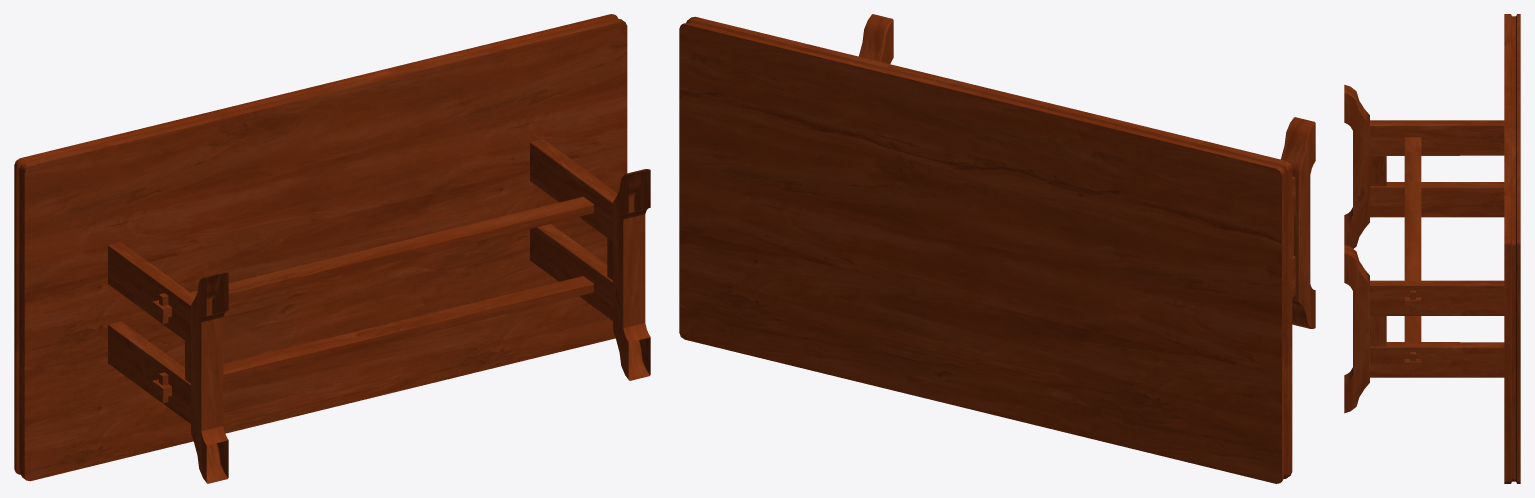
File: mH_DinnerTableLarge.fbx
3 views of the same model, side by side, from view 1: azimuth 30°, elevation 25°; view 2: azimuth 150°, elevation 25°; view 3: azimuth 270°, elevation 25° (orthographic). The views are drawn at different scales.
Parts seen in each view (by area): view 1: mH_DinnerTableLarge; view 2: mH_DinnerTableLarge; view 3: mH_DinnerTableLarge.
Part boxes in pixels (<box>): mH_DinnerTableLarge: <box>14,14,650,483</box>; mH_DinnerTableLarge: <box>679,14,1315,483</box>; mH_DinnerTableLarge: <box>1344,14,1520,483</box>.
Size of the model in its own units: 353 by 177 by 115.
